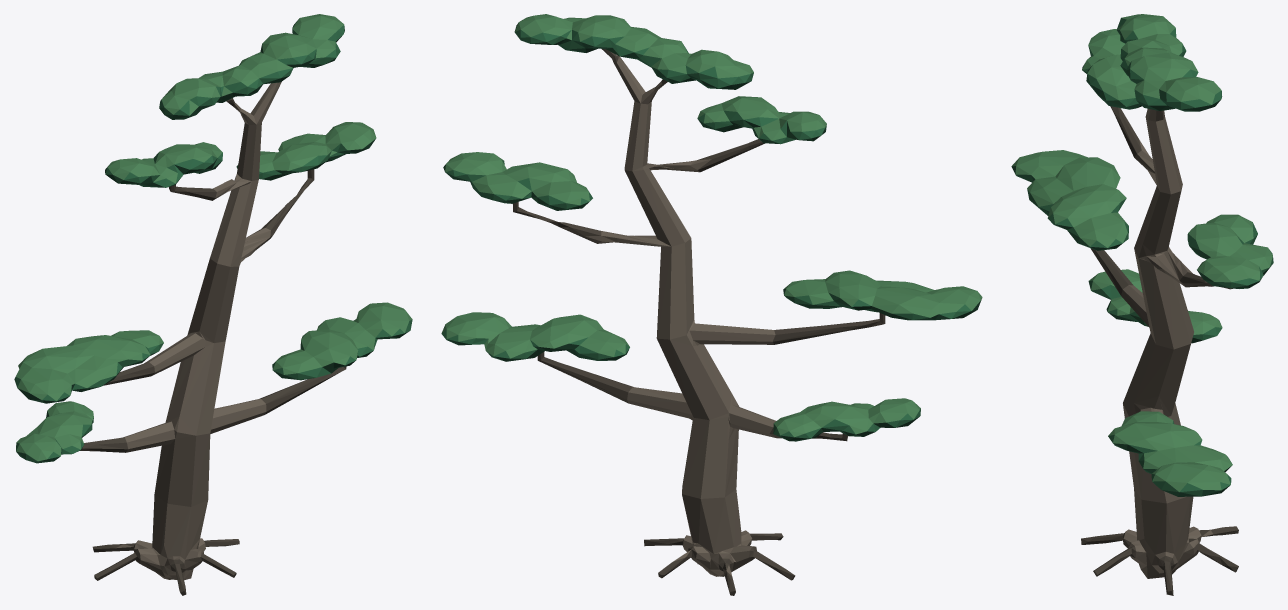
File: ancient-pine-4101-lod1.glb
3 renders of one model, left to right at view 1: azimuth 30°, elevation 25°; view 2: azimuth 150°, elevation 25°; view 3: azimuth 270°, elevation 25°, orthographic. The views are drawn at different scales.
Visible parts, largest first — view 1: n12.005, n8.005, n11.005, n9.005, n10.005; view 2: n12.005, n8.005, n11.005, n9.005, n10.005; view 3: n12.005, n8.005, n11.005, n9.005, n10.005.
Boxes of the visible parts, box(x1,y1,x2,y2) form: n12.005: box(16, 14, 412, 461); n8.005: box(116, 81, 281, 580); n11.005: box(14, 19, 412, 461); n9.005: box(80, 98, 346, 595); n10.005: box(16, 36, 409, 463); n12.005: box(442, 14, 982, 437); n8.005: box(585, 56, 780, 576); n11.005: box(441, 21, 971, 438); n9.005: box(513, 48, 885, 595); n10.005: box(443, 33, 981, 441); n12.005: box(1012, 14, 1272, 491); n8.005: box(1115, 108, 1215, 578); n11.005: box(1011, 18, 1273, 496); n9.005: box(1081, 106, 1238, 595); n10.005: box(1016, 30, 1272, 496).
Size of the model in its own units: 5 by 5.44 by 2.23.
